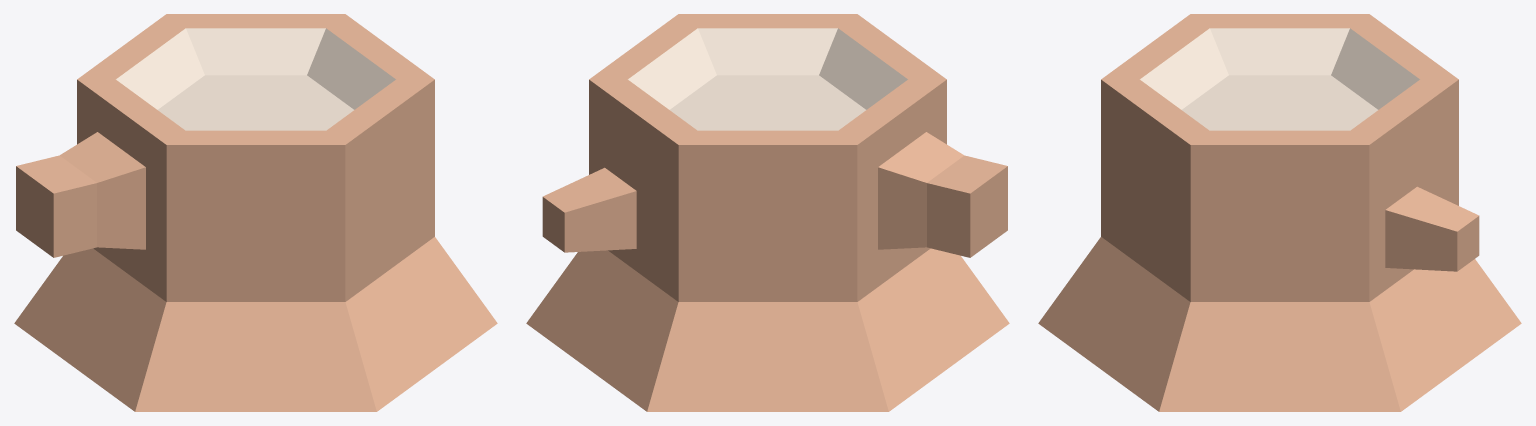
The model's file is Stump.fbx.
3 renders of one model, left to right at view 1: azimuth 30°, elevation 25°; view 2: azimuth 150°, elevation 25°; view 3: azimuth 270°, elevation 25°, orthographic.
Parts seen in each view (by area): view 1: stump; view 2: stump; view 3: stump.
Boxes of the visible parts, left/top/right/bottom form: stump: left=14, top=14, right=497, bottom=411; stump: left=526, top=14, right=1009, bottom=411; stump: left=1038, top=14, right=1521, bottom=411.
Bounding box in the file's own units: 140 × 81.29 × 146.
